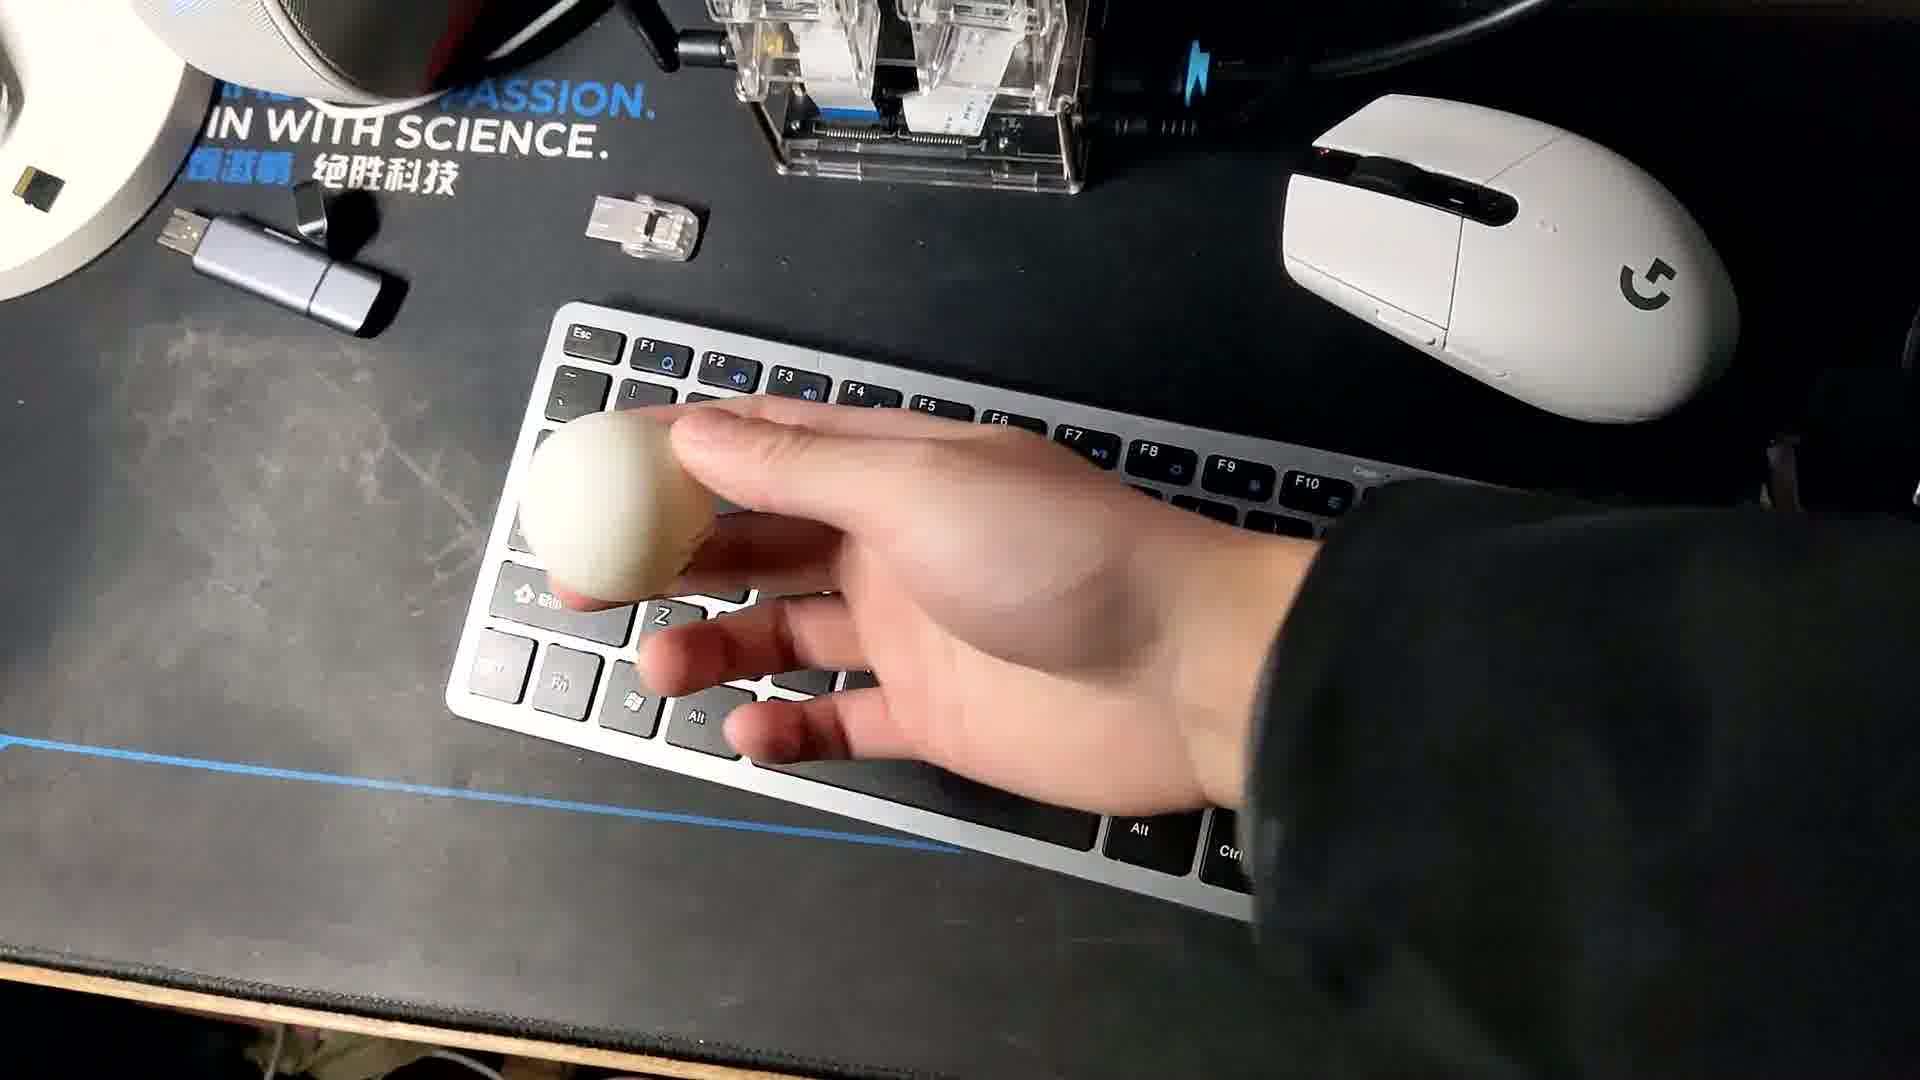Ball: (512, 411, 694, 600)
